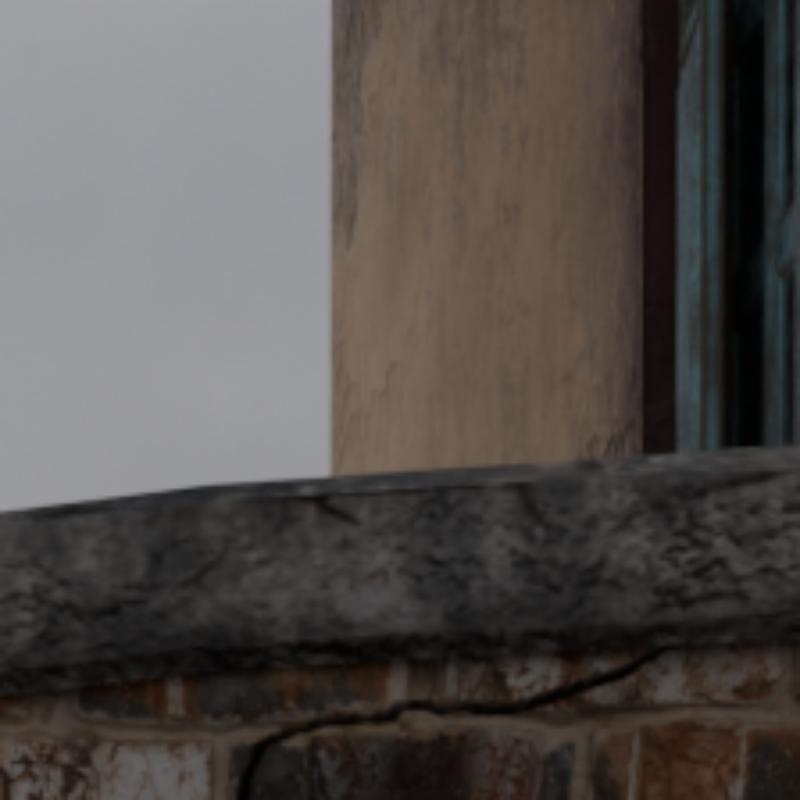pothole: (239, 643, 686, 796)
